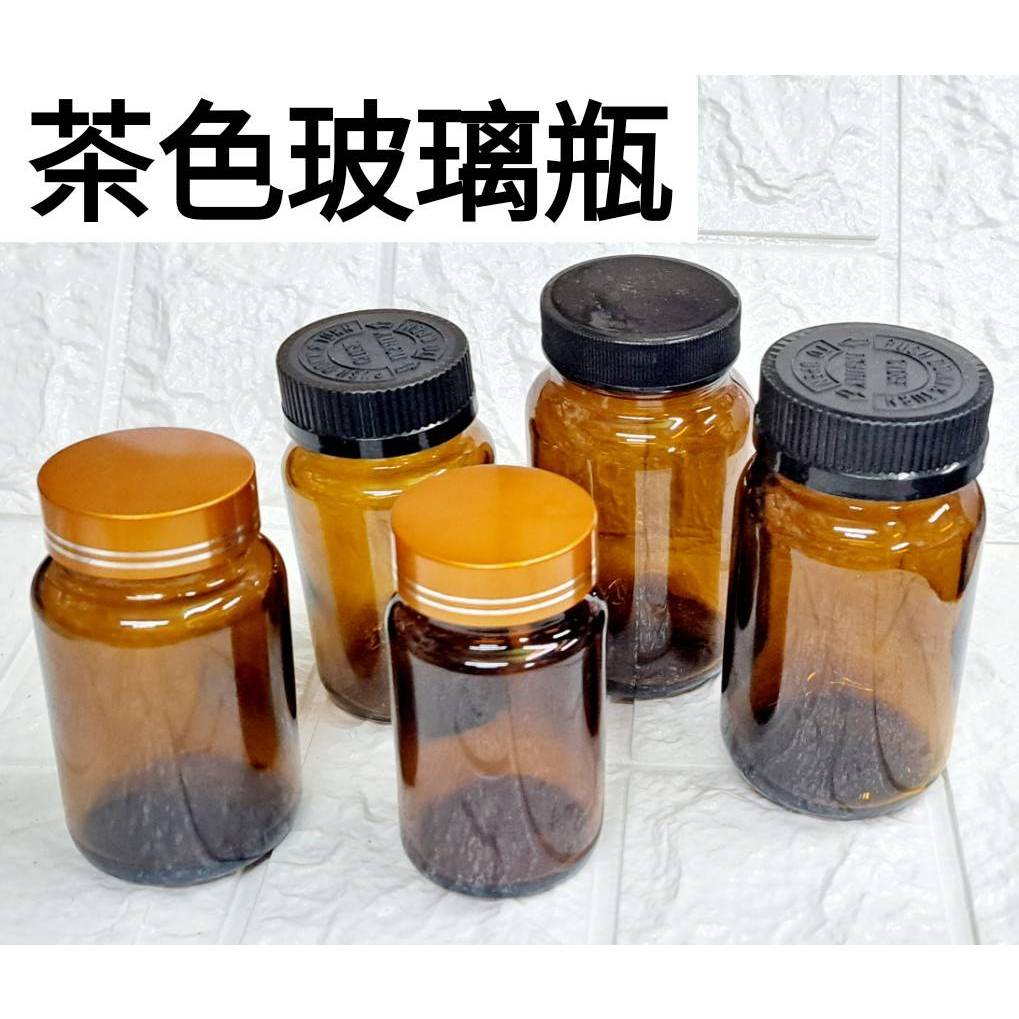medicinejar: (727, 308, 993, 830), (32, 424, 298, 892), (269, 298, 530, 746), (528, 259, 774, 717), (379, 463, 609, 903)
